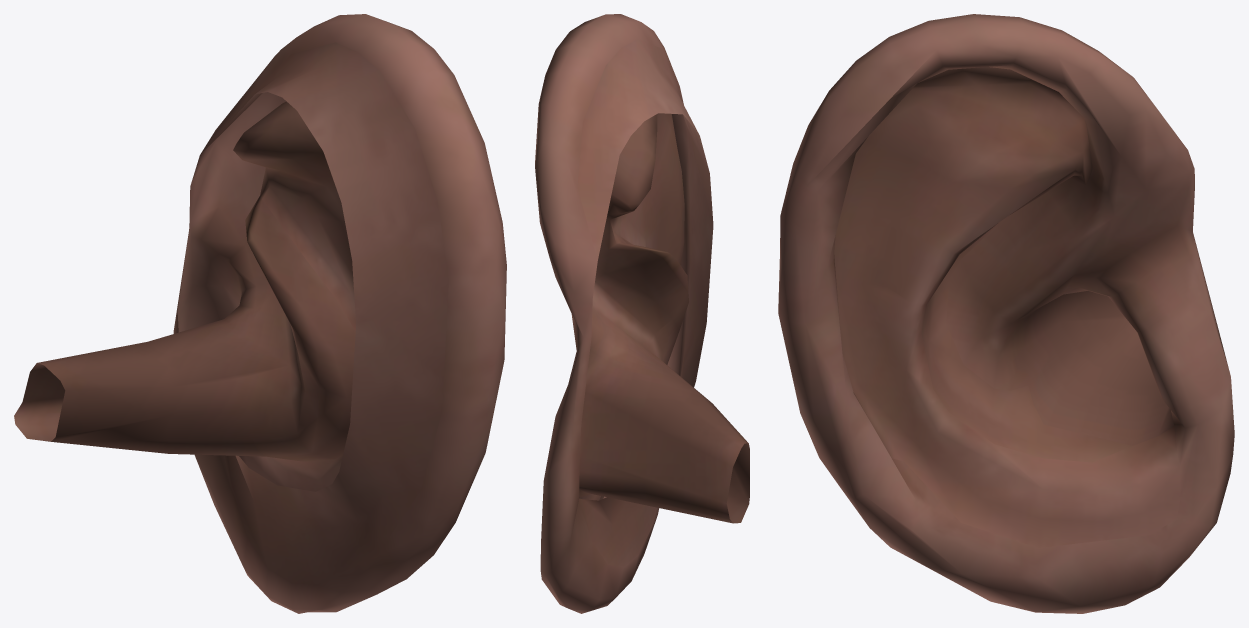
Rendered from PRP_EarModel_lod.glb.
3 views of the same model, side by side, from view 1: azimuth 30°, elevation 25°; view 2: azimuth 150°, elevation 25°; view 3: azimuth 270°, elevation 25° (orthographic). The views are drawn at different scales.
Parts seen in each view (by area): view 1: Ear_LP_LOD0__0; view 2: Ear_LP_LOD0__0; view 3: Ear_LP_LOD0__0.
Part boxes in pixels (left/top/right/bottom): Ear_LP_LOD0__0: left=14, top=14, right=506, bottom=613; Ear_LP_LOD0__0: left=535, top=14, right=749, bottom=613; Ear_LP_LOD0__0: left=778, top=14, right=1234, bottom=613.
Bounding box in the file's own units: 0.802 × 1.53 × 1.02.
1 material, 1 textured.
